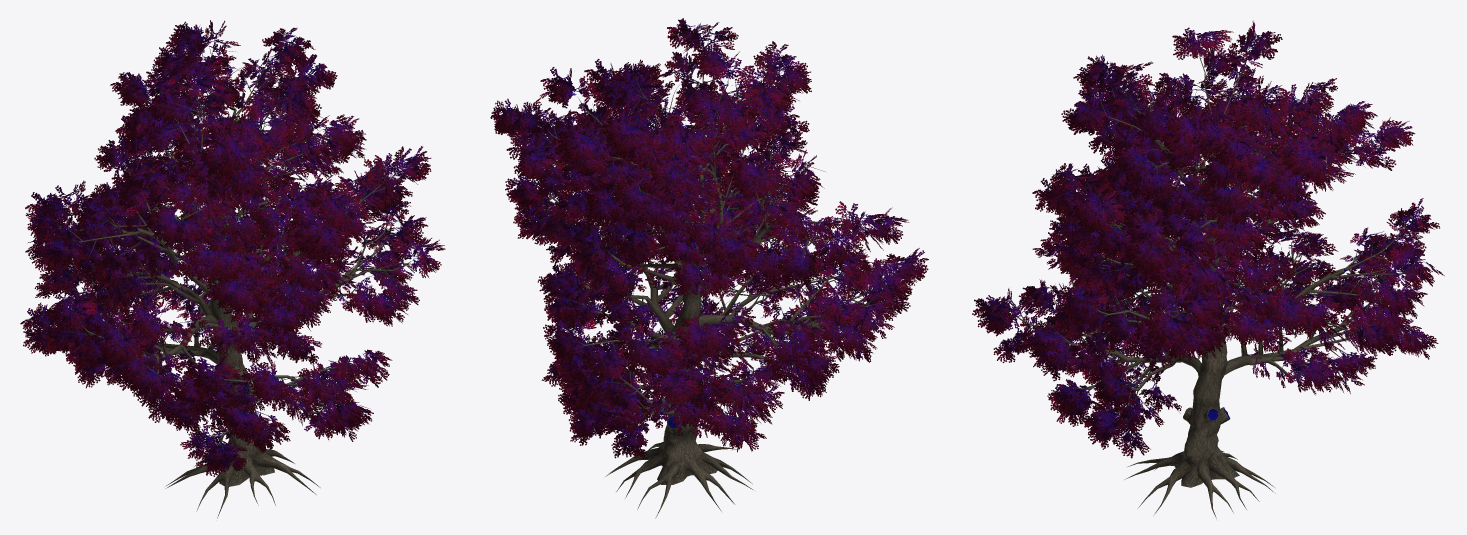
3 renders of one model, left to right at view 1: azimuth 30°, elevation 25°; view 2: azimuth 150°, elevation 25°; view 3: azimuth 270°, elevation 25°, orthographic. The views are drawn at different scales.
Visible parts, largest first — view 1: Canopy, Trunk; view 2: Canopy, Trunk; view 3: Canopy, Trunk.
Part boxes in pixels (left/top/right/bottom): Canopy: left=20, top=20, right=445, bottom=476; Trunk: left=42, top=35, right=411, bottom=518; Canopy: left=490, top=18, right=928, bottom=458; Trunk: left=532, top=35, right=886, bottom=518; Canopy: left=972, top=20, right=1444, bottom=458; Trunk: left=1008, top=52, right=1410, bottom=518.
Size of the model in its own units: 2174 by 2311 by 2266.
Materials: 2 (2 with a texture image).
